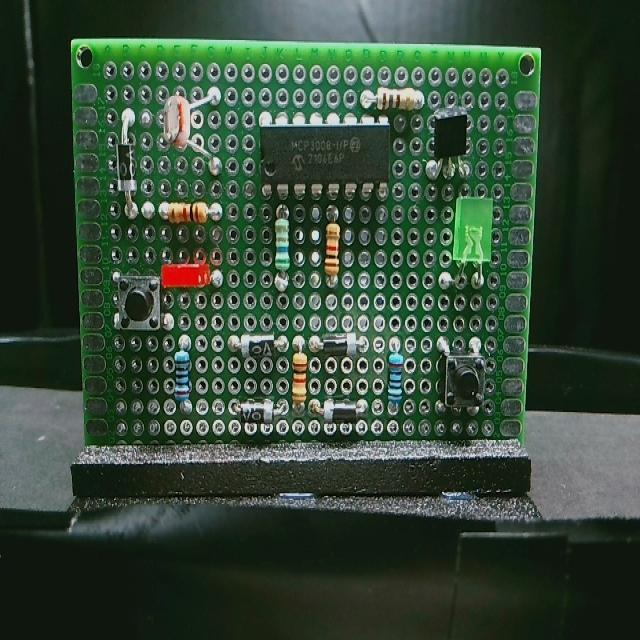IC: (255, 112, 390, 196)
cds: (162, 78, 193, 157)
diode: (109, 132, 140, 197), (230, 332, 284, 360), (317, 395, 359, 429), (238, 398, 276, 431), (315, 331, 358, 359)
led: (444, 192, 501, 272), (162, 260, 212, 295)
resistor: (160, 195, 213, 229), (384, 336, 405, 414), (171, 347, 197, 402), (272, 215, 294, 279), (372, 86, 420, 113), (290, 339, 307, 411), (326, 214, 345, 270)
switch: (436, 348, 491, 408), (112, 274, 162, 336)
transistor: (423, 101, 473, 180)
